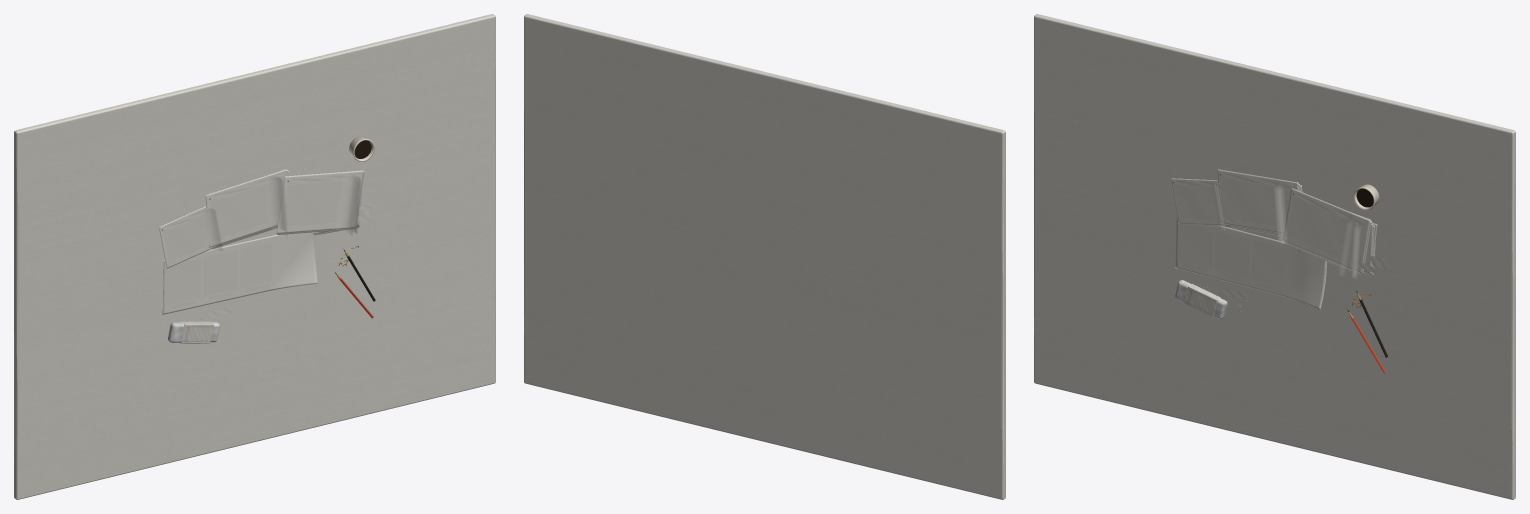
3 renders of one model, left to right at view 1: azimuth 30°, elevation 25°; view 2: azimuth 150°, elevation 25°; view 3: azimuth 330°, elevation 25°, orthographic.
Visible parts, largest first — view 1: warm_drawing_table, clock_acetate, screen_severance_s2, screen_got_s4, clock_stock, screen_dexter_s8-final, acetate_severance_s2, clock_s, stock_severance_s2, clock_m, clock_h, clock_d (+4 smaller); view 2: warm_drawing_table; view 3: warm_drawing_table, screen_severance_s2, clock_acetate, screen_got_s4, clock_stock, screen_dexter_s8-final, stock_severance_s2, clock_h, clock_m, clock_d, clock_s, stock_got_s4 (+3 smaller).
Boxes of the visible parts, x1,y1,x2,y2 form: warm_drawing_table: (14, 14, 495, 499); clock_acetate: (163, 233, 319, 314); screen_severance_s2: (282, 180, 358, 226); screen_got_s4: (210, 179, 283, 239); clock_stock: (162, 234, 317, 314); screen_dexter_s8-final: (163, 212, 218, 262); acetate_severance_s2: (277, 173, 359, 233); clock_s: (277, 233, 314, 280); stock_severance_s2: (276, 170, 363, 233); clock_m: (240, 241, 275, 288); clock_h: (203, 249, 238, 296); clock_d: (165, 258, 201, 305); warm_drawing_table: (524, 14, 1005, 499); warm_drawing_table: (1034, 14, 1515, 499); screen_severance_s2: (1287, 198, 1364, 265); clock_acetate: (1175, 215, 1312, 311); screen_got_s4: (1221, 178, 1290, 227); clock_stock: (1175, 214, 1326, 309); screen_dexter_s8-final: (1174, 185, 1229, 220); stock_severance_s2: (1283, 188, 1370, 273); clock_h: (1214, 230, 1249, 278); clock_m: (1251, 240, 1286, 287); clock_d: (1177, 222, 1212, 268); clock_s: (1288, 250, 1324, 299); stock_got_s4: (1216, 169, 1298, 233).
Size of the model in its own units: 30 by 22 by 2.
Materials: 11 (4 with a texture image).
